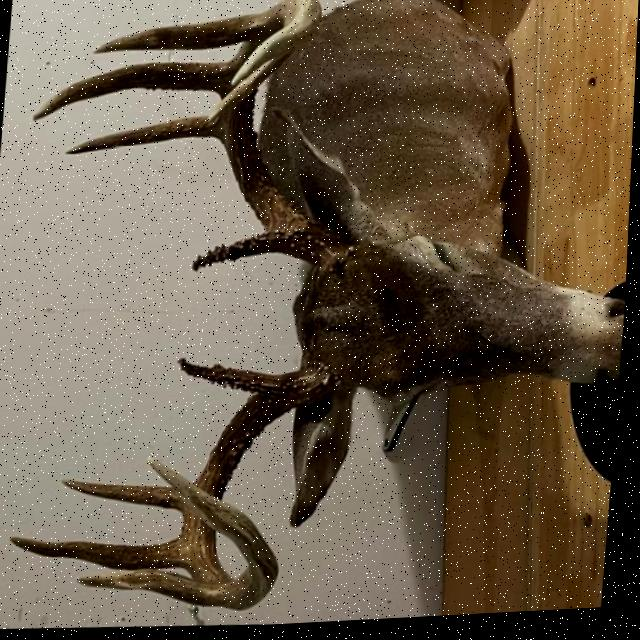L-G1: (190, 233, 280, 276)
L-G3: (32, 60, 231, 123)
L-G4: (89, 15, 259, 57)
R-G1: (179, 358, 277, 396)
R-G2: (63, 478, 190, 517)
R-G3: (12, 535, 191, 573), (64, 117, 222, 155)
R-G4: (78, 571, 216, 609)
